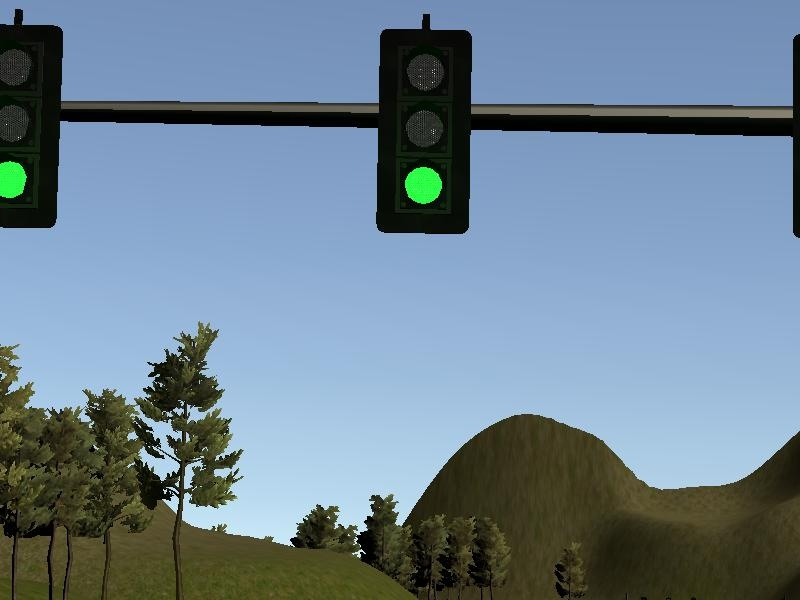GREEN: (377, 28, 470, 237), (1, 24, 59, 227)
